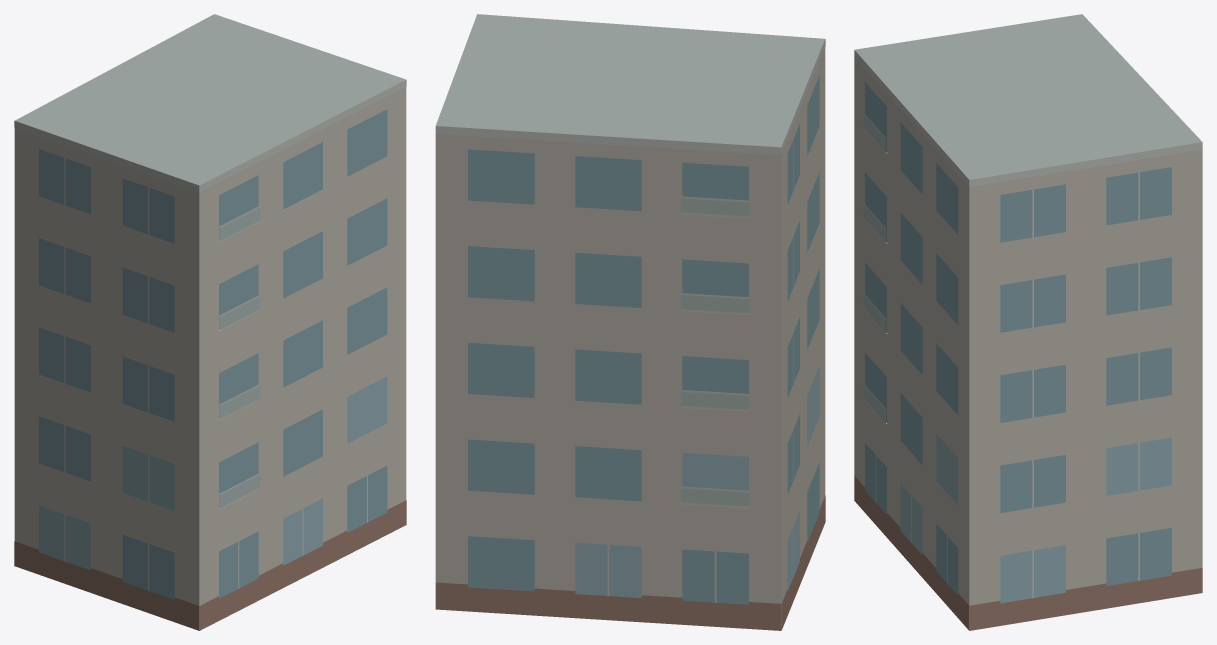
File: residential-528f05d0-ebb8-4a47-ba18-3923edf06552.glb
3 views of the same model, side by side, from view 1: azimuth 30°, elevation 25°; view 2: azimuth 150°, elevation 25°; view 3: azimuth 270°, elevation 25° (orthographic). The views are drawn at different scales.
Visible parts, largest first — view 1: residential-528f05d0-ebb8-4a47-ba18-3923edf06552.tmp; view 2: residential-528f05d0-ebb8-4a47-ba18-3923edf06552.tmp; view 3: residential-528f05d0-ebb8-4a47-ba18-3923edf06552.tmp.
Part boxes in pixels (left/top/right/bottom): residential-528f05d0-ebb8-4a47-ba18-3923edf06552.tmp: left=14, top=14, right=406, bottom=630; residential-528f05d0-ebb8-4a47-ba18-3923edf06552.tmp: left=435, top=14, right=825, bottom=630; residential-528f05d0-ebb8-4a47-ba18-3923edf06552.tmp: left=854, top=14, right=1202, bottom=630.
Bounding box in the file's own units: 12.05 × 15.25 × 10.69.
